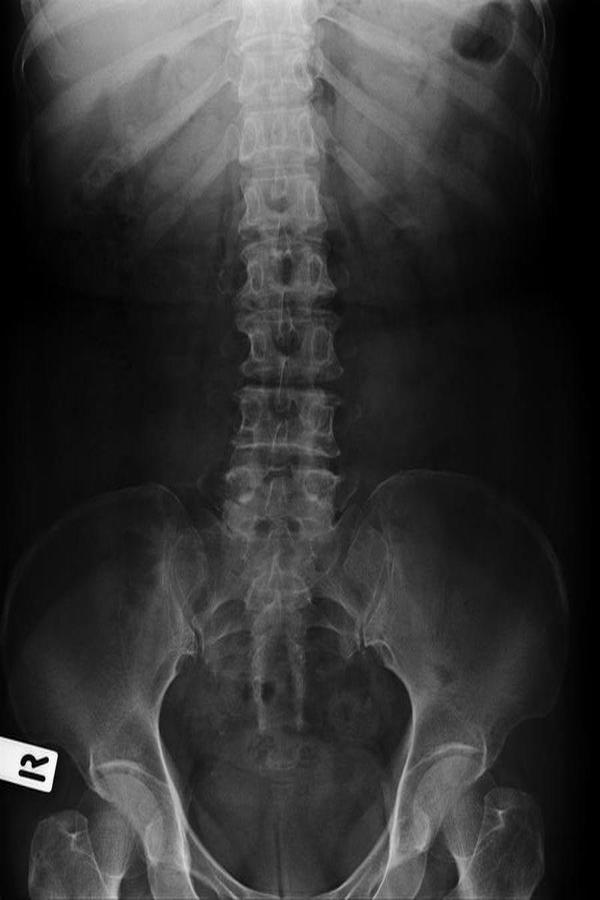lumbar scoliosis: (216, 8, 351, 565)
